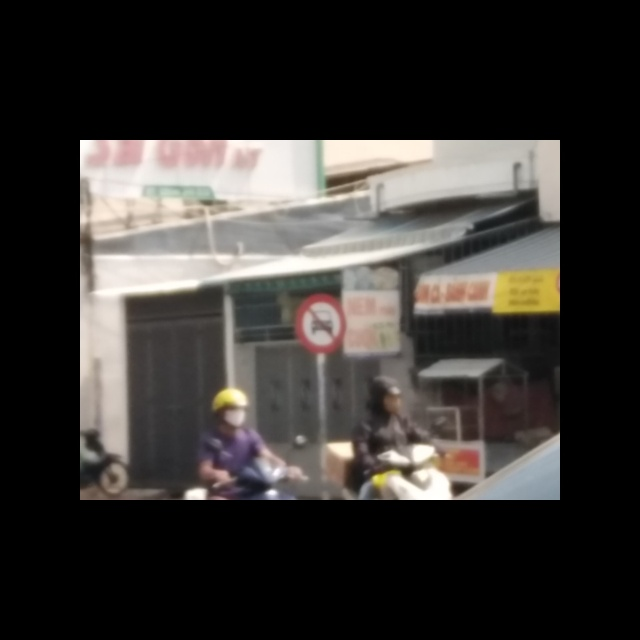Cấm xe ô tô: (294, 292, 349, 355)
